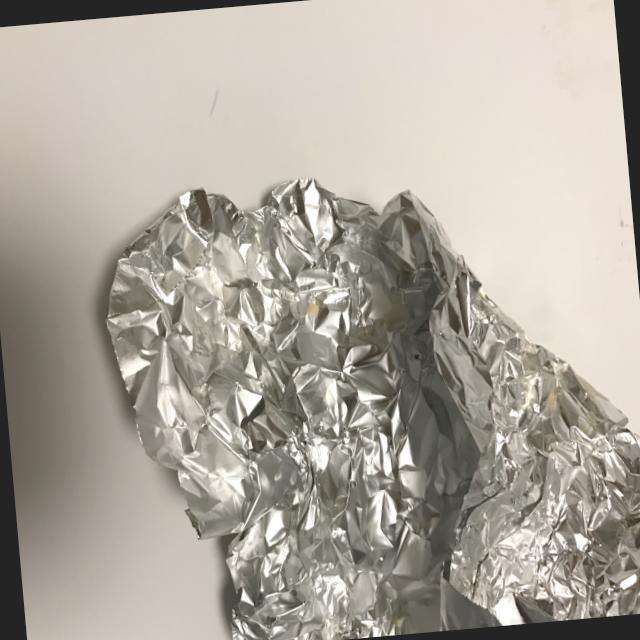Metal: (82, 131, 640, 640)
